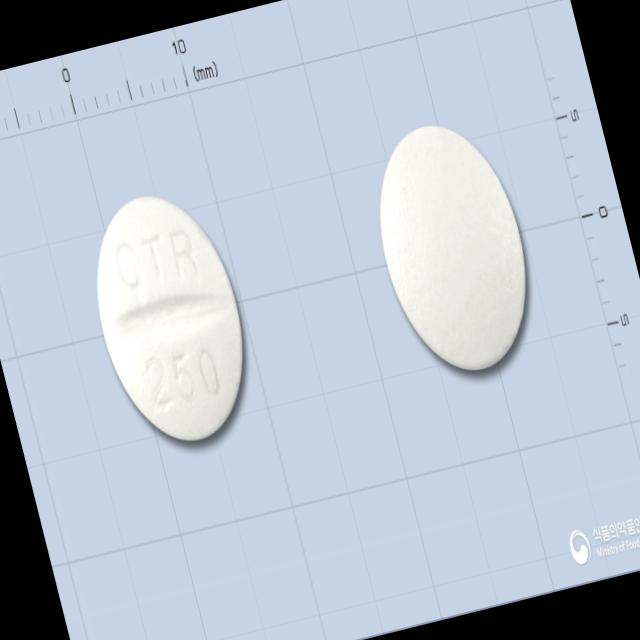Citro: (70, 176, 270, 460)
